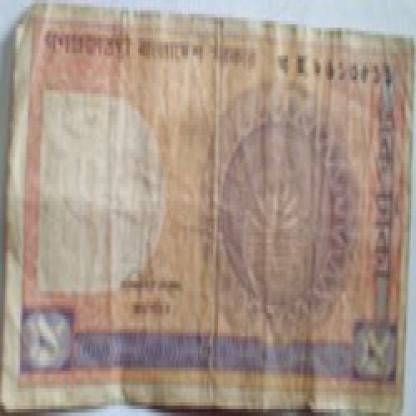One Taka: (372, 90, 392, 288), (25, 308, 70, 368), (358, 326, 396, 378)
